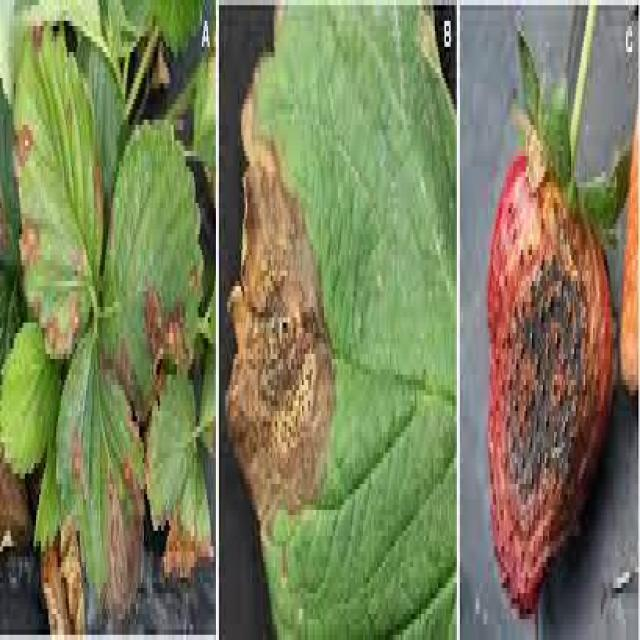Mancha negra Antracnosis: (489, 138, 612, 590)
